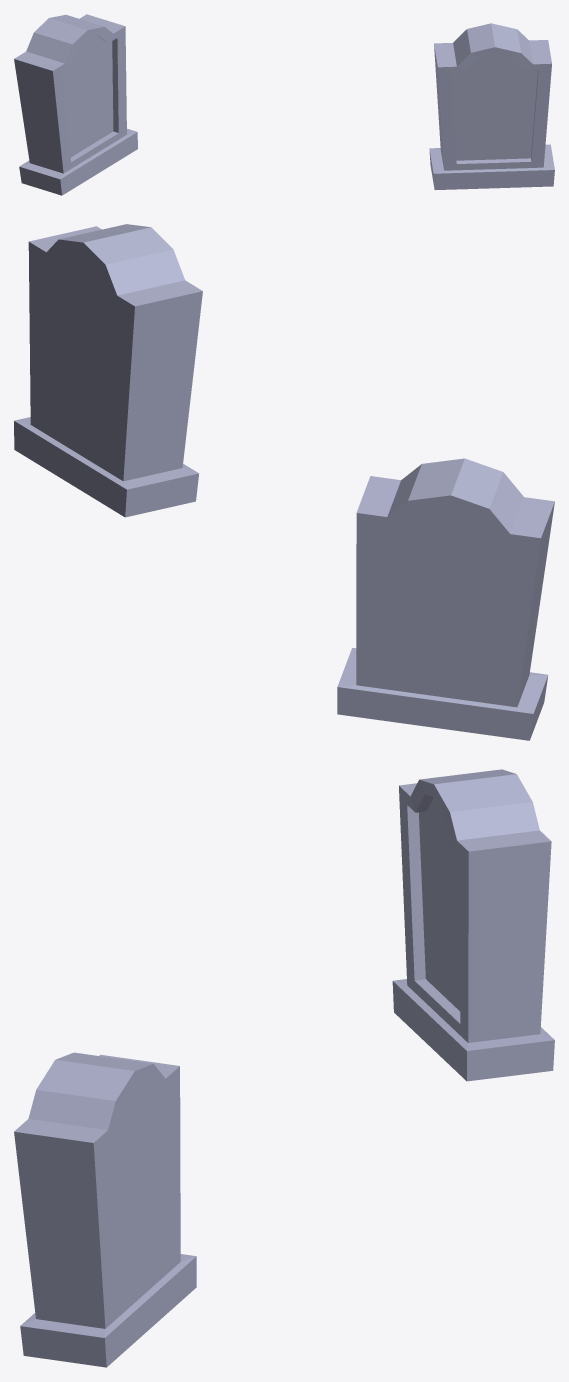
File: tombstones.5650a1ed.glb
The picture shows the model from 3 angles, top to bottom: view 1: azimuth 30°, elevation 25°; view 2: azimuth 150°, elevation 25°; view 3: azimuth 270°, elevation 25°; orthographic projection. The views are drawn at different scales.
Parts seen in each view (by area): view 1: Tombstone.001, Tombstone; view 2: Tombstone, Tombstone.001; view 3: Tombstone.001, Tombstone.
Boxes of the visible parts, bbox=[...] form: Tombstone.001: bbox=[429, 23, 554, 189]; Tombstone: bbox=[14, 14, 137, 195]; Tombstone: bbox=[337, 458, 554, 740]; Tombstone.001: bbox=[14, 224, 202, 517]; Tombstone.001: bbox=[14, 1052, 196, 1367]; Tombstone: bbox=[392, 769, 554, 1081].
Size of the model in its own units: 6.73 by 2.33 by 4.19.
